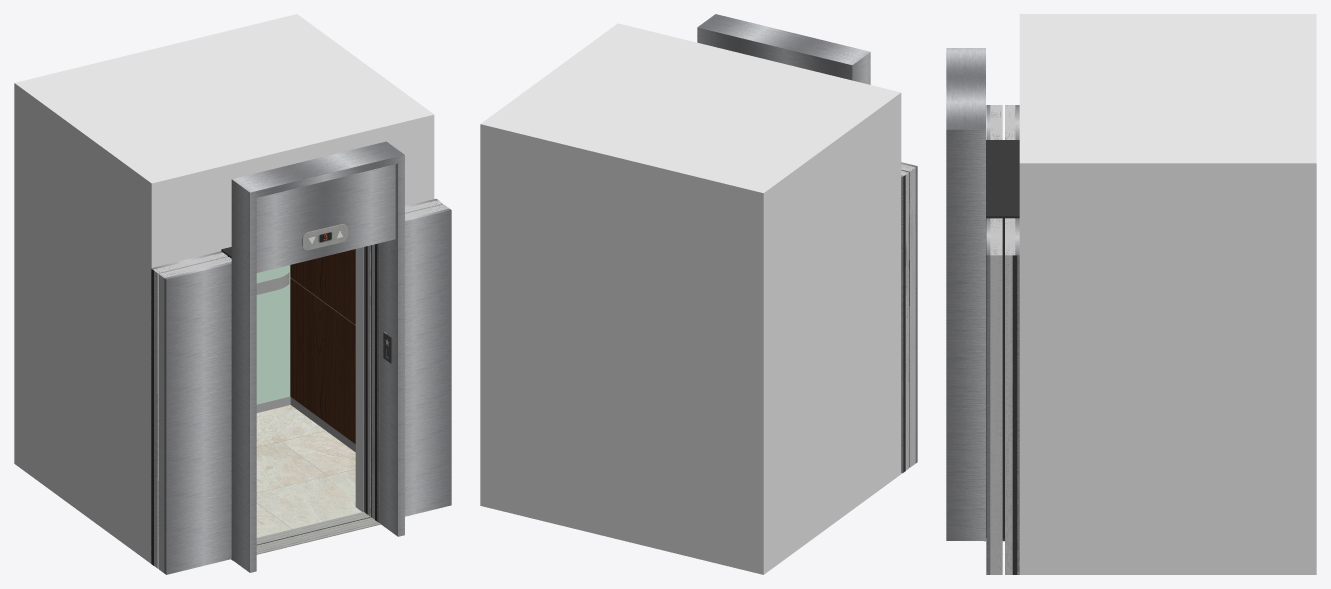
Rendered from Ascensor.dae.
The picture shows the model from 3 angles, left to right: view 1: azimuth 30°, elevation 25°; view 2: azimuth 150°, elevation 25°; view 3: azimuth 270°, elevation 25°; orthographic projection. The views are drawn at different scales.
Visible parts, largest first — view 1: group_7, group_22 (×2), group_0, Component_54, group_11 (×2), group_14 (×5), group_15, group_10, group_23 (×2), group_26 (×2), group_9, group_8 (+6 smaller); view 2: group_7, group_0, Component_54, group_23, group_15, group_26, group_22, group_27, group_25; view 3: group_7, group_0, Component_54, group_23, group_2, group_26, group_25, group_22, group_27.
Boxes of the visible parts, x1,y1,x2,y2 form: group_7: (14,14,434,563); group_22 (×2): (164,208,451,574); group_0: (36,23,412,174); Component_54: (231,141,404,572); group_11 (×2): (290,249,355,443); group_14 (×5): (256,405,361,537); group_15: (256,164,395,272); group_10: (256,278,290,404); group_23 (×2): (158,204,449,572); group_26 (×2): (153,200,442,568); group_9: (231,517,380,560); group_8: (256,396,355,451); group_7: (480,23,901,574); group_0: (502,32,879,183); Component_54: (697,14,870,84); group_23: (901,164,915,467); group_15: (704,36,845,78); group_26: (901,170,908,470); group_22: (901,162,917,463); group_27: (901,175,903,473); group_25: (903,175,905,472); group_7: (1019,14,1316,574); group_0: (1036,21,1299,155); Component_54: (946,48,985,540); group_23: (990,218,1002,574); group_2: (986,140,1019,538); group_26: (1005,218,1015,574); group_25: (1012,255,1017,574); group_22: (986,218,990,574); group_27: (1015,218,1019,574).
Size of the model in its own units: 84.87 by 88.14 by 108.
Materials: 19 (7 with a texture image).
